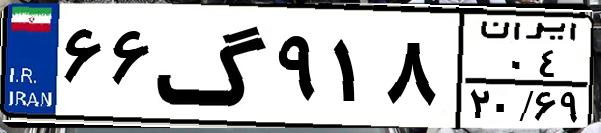0: (508, 27, 537, 80), (495, 70, 520, 125)
1: (330, 28, 385, 110)
2: (470, 70, 495, 125)
4: (537, 27, 568, 80)
6: (57, 26, 110, 100), (110, 28, 156, 98), (535, 70, 560, 125)
8: (385, 28, 445, 110)
9: (270, 28, 330, 110), (560, 70, 590, 125)
گ: (156, 12, 270, 120)
